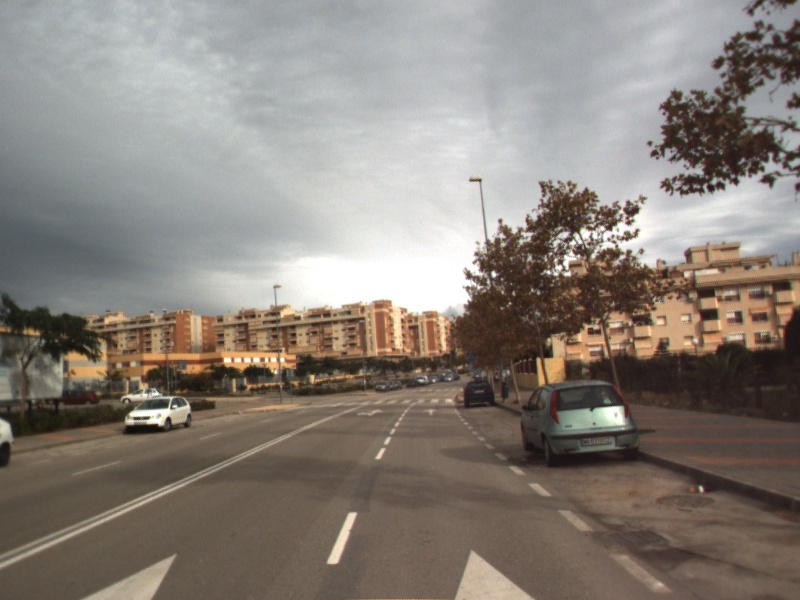STRAIGHT: (421, 407, 439, 417)
STRAIGHT_LEFT: (355, 407, 385, 418)
